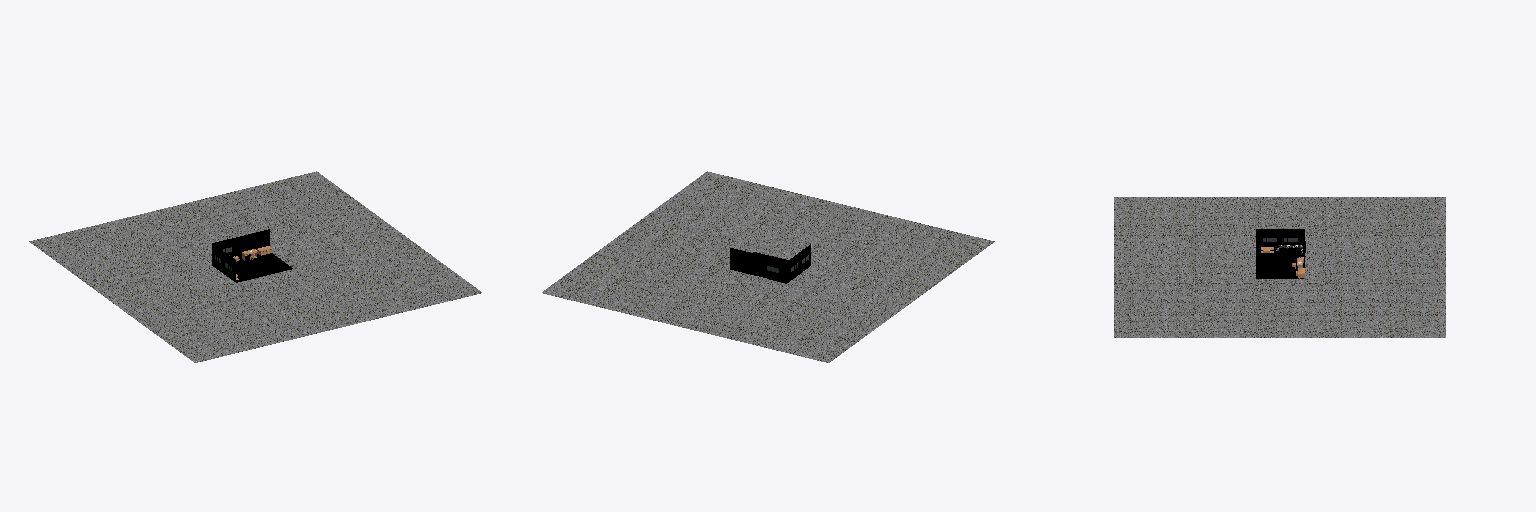
The picture shows the model from 3 angles: view 1: azimuth 30°, elevation 25°; view 2: azimuth 150°, elevation 25°; view 3: azimuth 270°, elevation 25°; orthographic projection.
Parts seen in each view (by area): view 1: pGroundPAR, polySurface1 scenewalls, scenewalls polySurface2; view 2: pGroundPAR, polySurface1 scenewalls; view 3: pGroundPAR, scenewalls polySurface2, polySurface1 scenewalls.
Part boxes in pixels (x1,y1,x2,y2): pGroundPAR: (29, 171, 481, 362); polySurface1 scenewalls: (212, 229, 269, 281); scenewalls polySurface2: (236, 253, 292, 282); pGroundPAR: (542, 171, 994, 362); polySurface1 scenewalls: (730, 244, 810, 282); pGroundPAR: (1114, 197, 1445, 337); scenewalls polySurface2: (1256, 251, 1304, 278); polySurface1 scenewalls: (1256, 229, 1304, 250).
Size of the model in its own units: 356 by 26.82 by 356.
Materials: 15 (3 with a texture image).